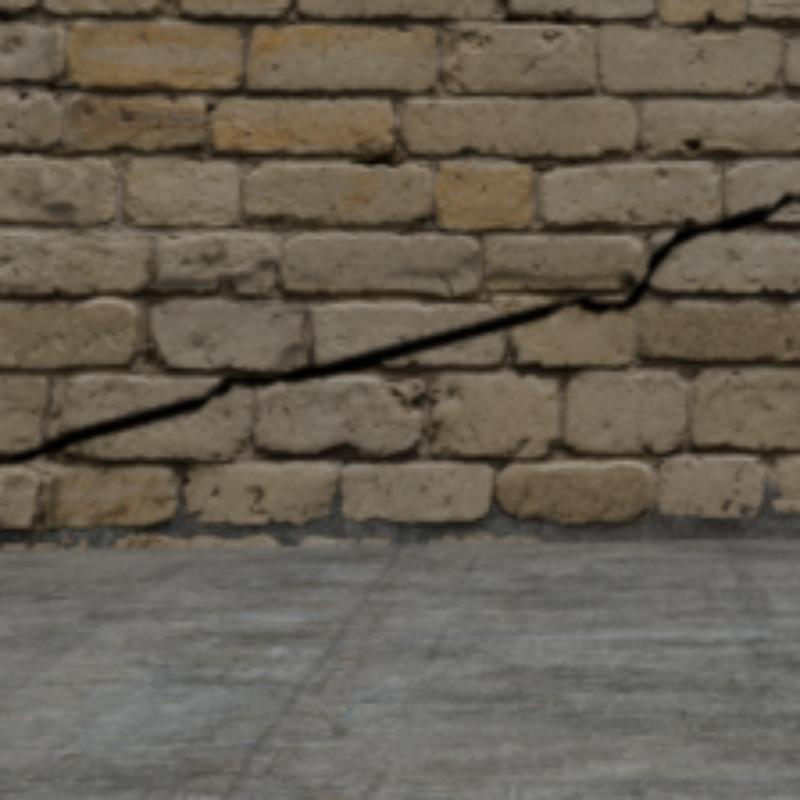pothole: (0, 193, 796, 464)
